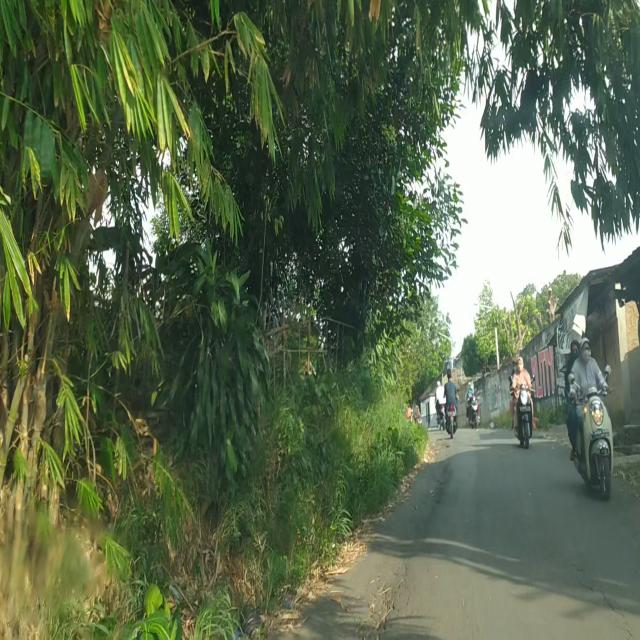Drain Hole: (346, 559, 413, 640)
